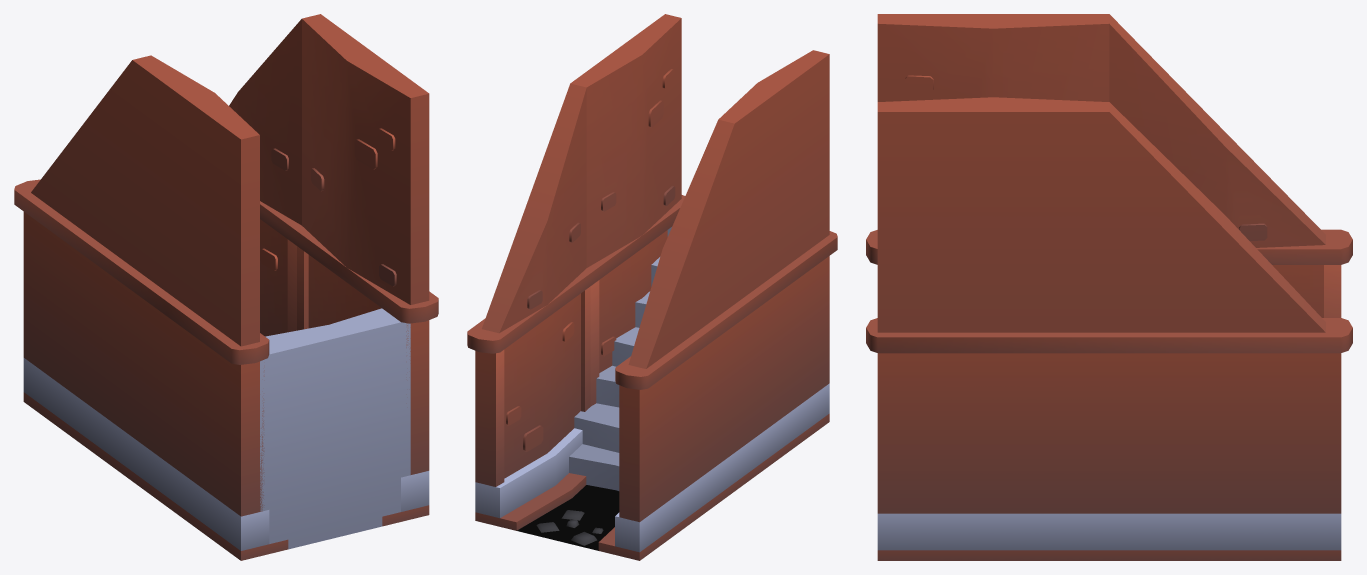
Rendered from stairs.glb.
3 renders of one model, left to right at view 1: azimuth 30°, elevation 25°; view 2: azimuth 150°, elevation 25°; view 3: azimuth 270°, elevation 25°, orthographic. The views are drawn at different scales.
Parts seen in each view (by area): view 1: stairs; view 2: stairs; view 3: stairs.
Boxes of the visible parts, x1,y1,x2,y2 form: stairs: (14, 14, 438, 560); stairs: (467, 14, 837, 560); stairs: (866, 14, 1352, 560).
Bounding box in the file's own units: 4.4 × 8.55 × 8.4.
1 material, 1 textured.
